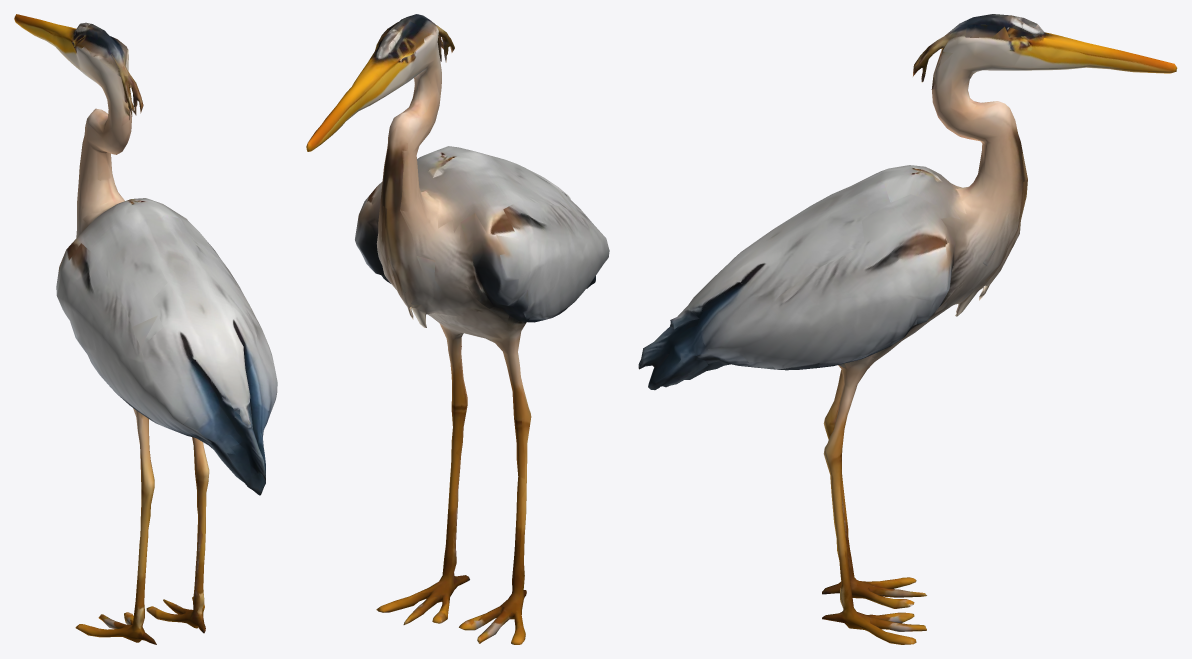
Rendered from heron.glb.
The picture shows the model from 3 angles, left to right: view 1: azimuth 30°, elevation 25°; view 2: azimuth 150°, elevation 25°; view 3: azimuth 270°, elevation 25°; orthographic projection. The views are drawn at different scales.
Parts seen in each view (by area): view 1: heron; view 2: heron; view 3: heron.
Part boxes in pixels (box(x1,y1,x2,y2)): heron: box(14, 14, 277, 644); heron: box(306, 14, 609, 644); heron: box(638, 14, 1177, 644).
Bounding box in the file's own units: 0.3136 × 1.15 × 0.9343.
Materials: 1 (1 with a texture image).
